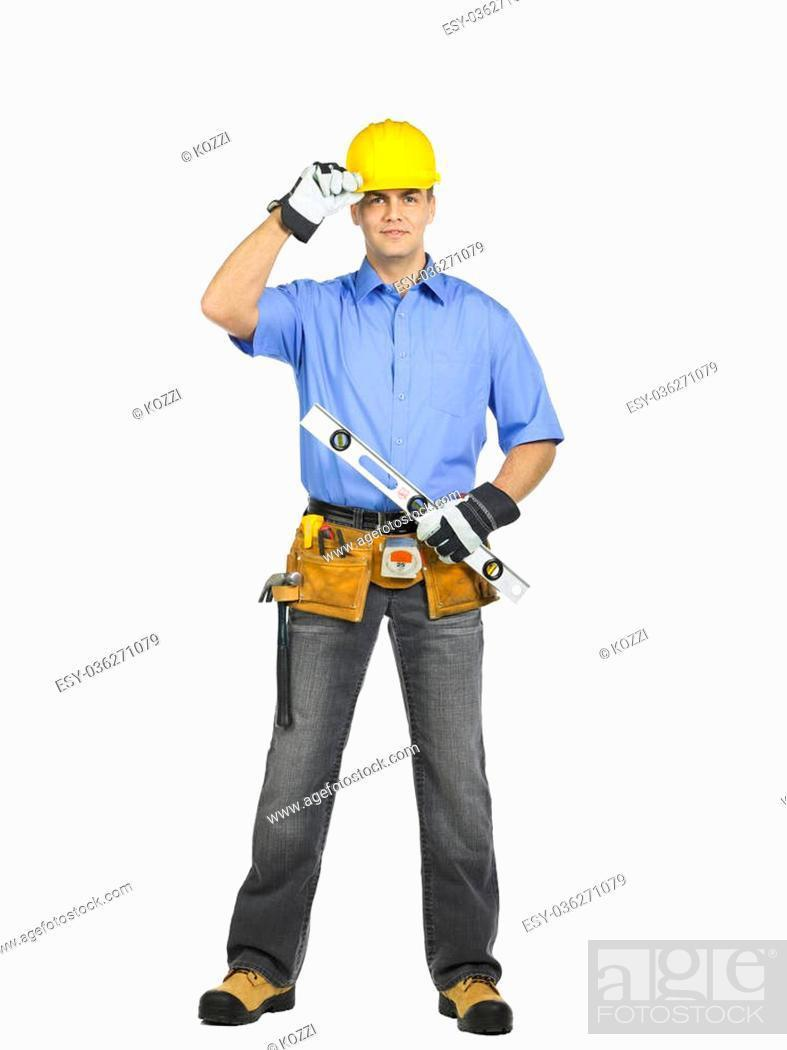hardhat: (344, 118, 444, 196)
worker: (197, 117, 567, 1038)
